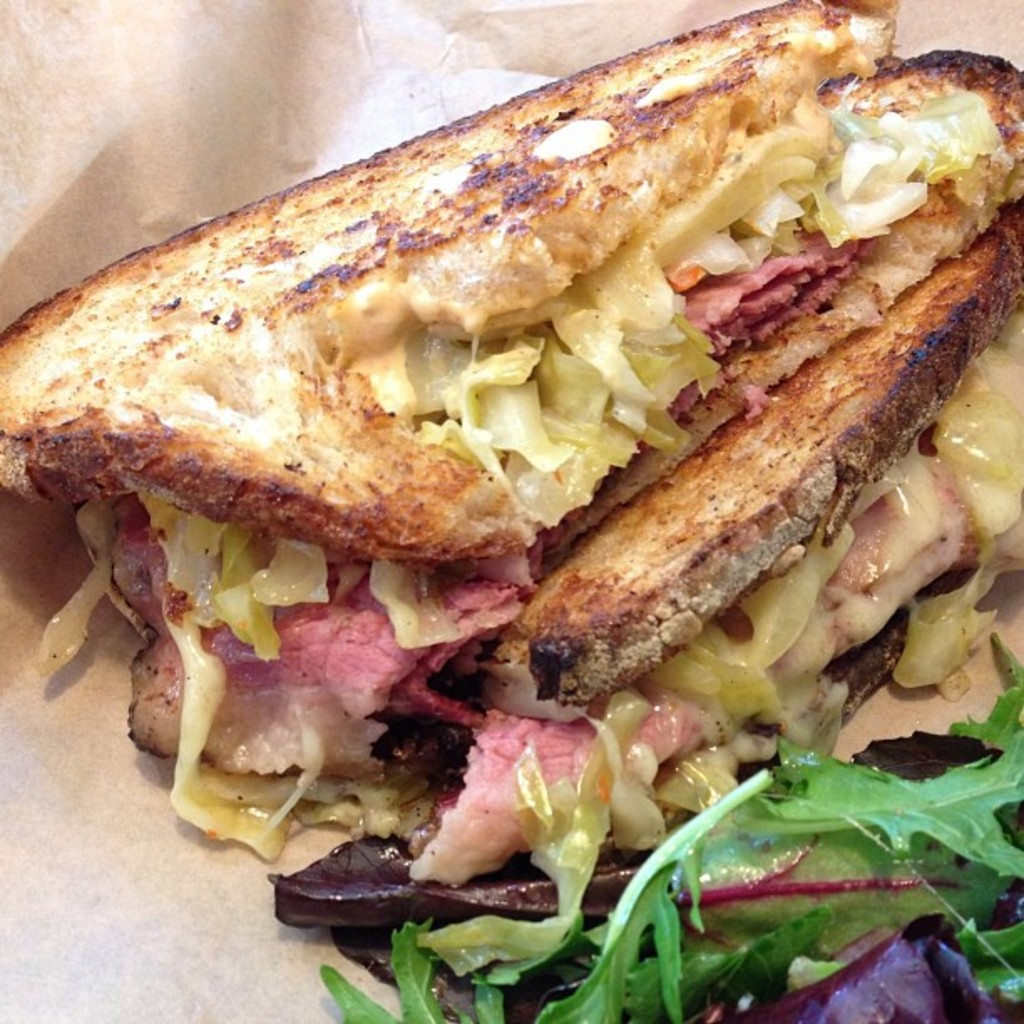sandwich: (0, 0, 1022, 780)
